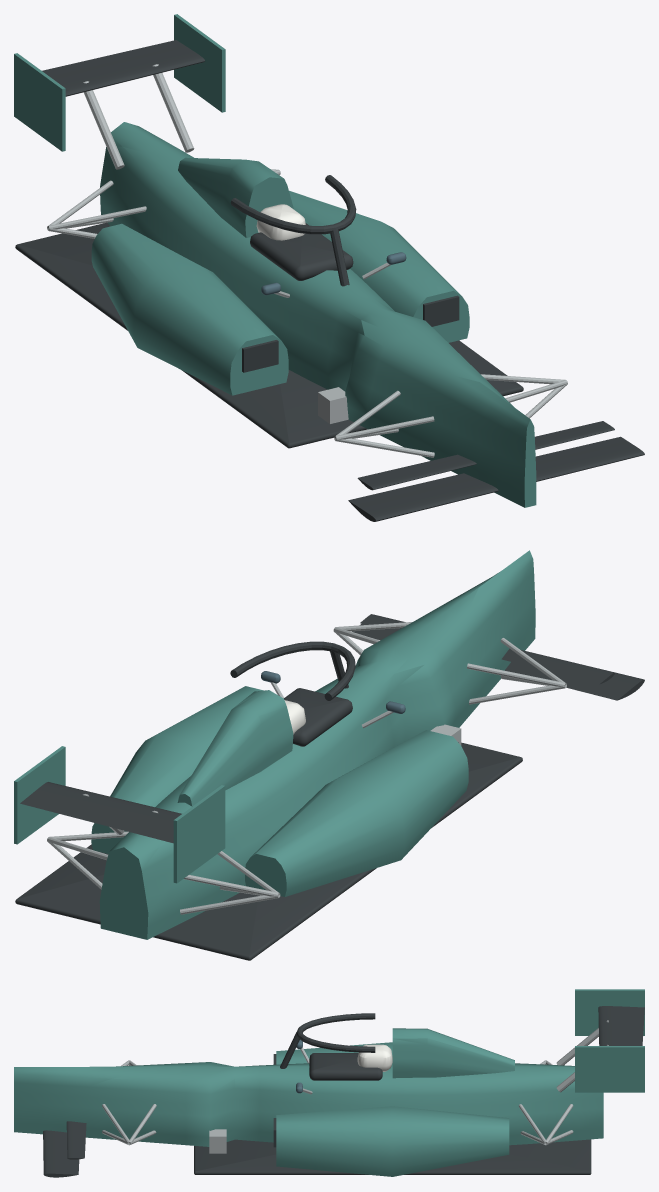
The model's file is grand-prix-circuit-and-open-wheel-car-wheels-off-38611f74__15249.glb.
3 views of the same model, one above another, from view 1: azimuth 30°, elevation 25°; view 2: azimuth 150°, elevation 25°; view 3: azimuth 270°, elevation 25° (orthographic). The views are drawn at different scales.
Parts seen in each view (by area): view 1: car-wheels-off; view 2: car-wheels-off; view 3: car-wheels-off.
Part boxes in pixels (x1,y1,x2,y2): car-wheels-off: (14,14,644,521); car-wheels-off: (14,550,644,960); car-wheels-off: (14,989,644,1177).
Size of the model in its own units: 1.95 by 1.16 by 5.41.
